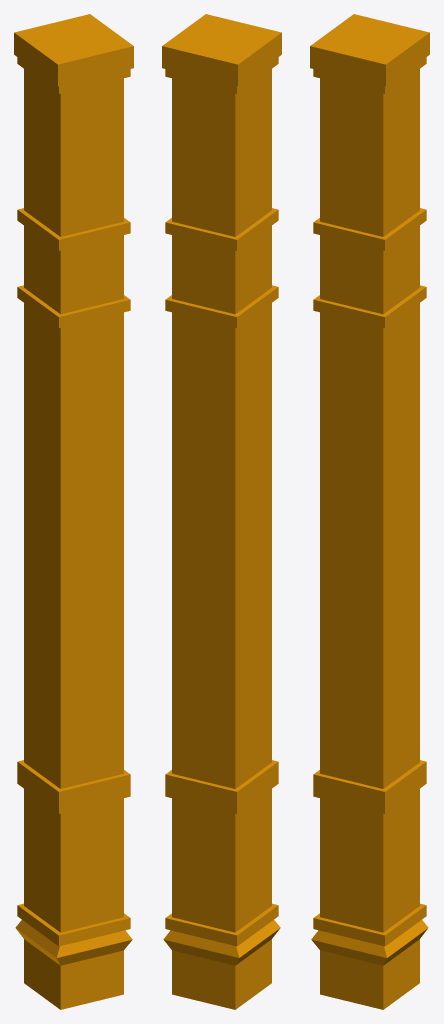
Rendered from SM_pillar.fbx.
The picture shows the model from 3 angles, left to right: view 1: azimuth 30°, elevation 25°; view 2: azimuth 150°, elevation 25°; view 3: azimuth 330°, elevation 25°; orthographic projection.
Visible parts, largest first — view 1: cafe_pillar; view 2: cafe_pillar; view 3: cafe_pillar.
Part boxes in pixels (box(x1,y1,x2,y2)): cafe_pillar: box(14, 14, 133, 1009); cafe_pillar: box(162, 14, 281, 1009); cafe_pillar: box(310, 14, 429, 1009).
Bounding box in the file's own units: 36.02 × 430 × 36.
